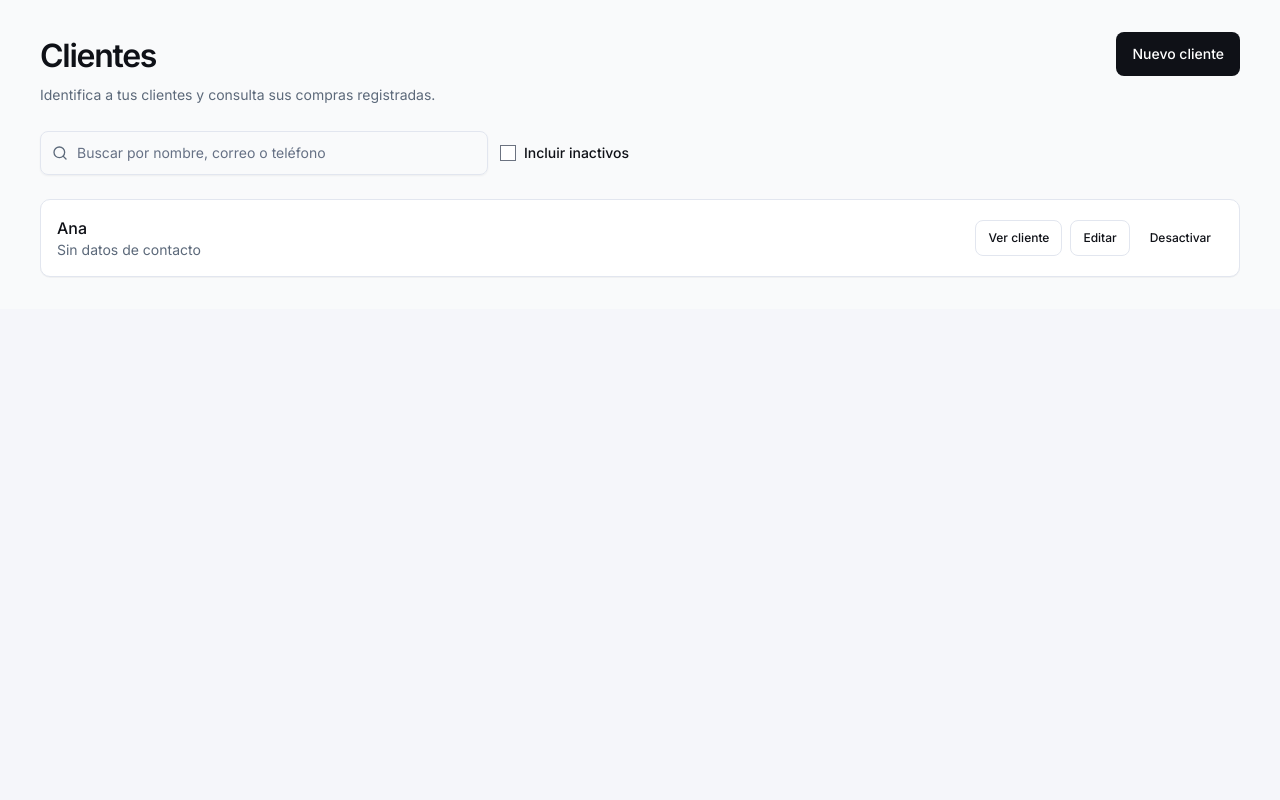
Test: Clientes › muestra compras y devoluciones reales
Click the button "Ver cliente": {"x": 1019, "y": 238} [975,220,1062,256]
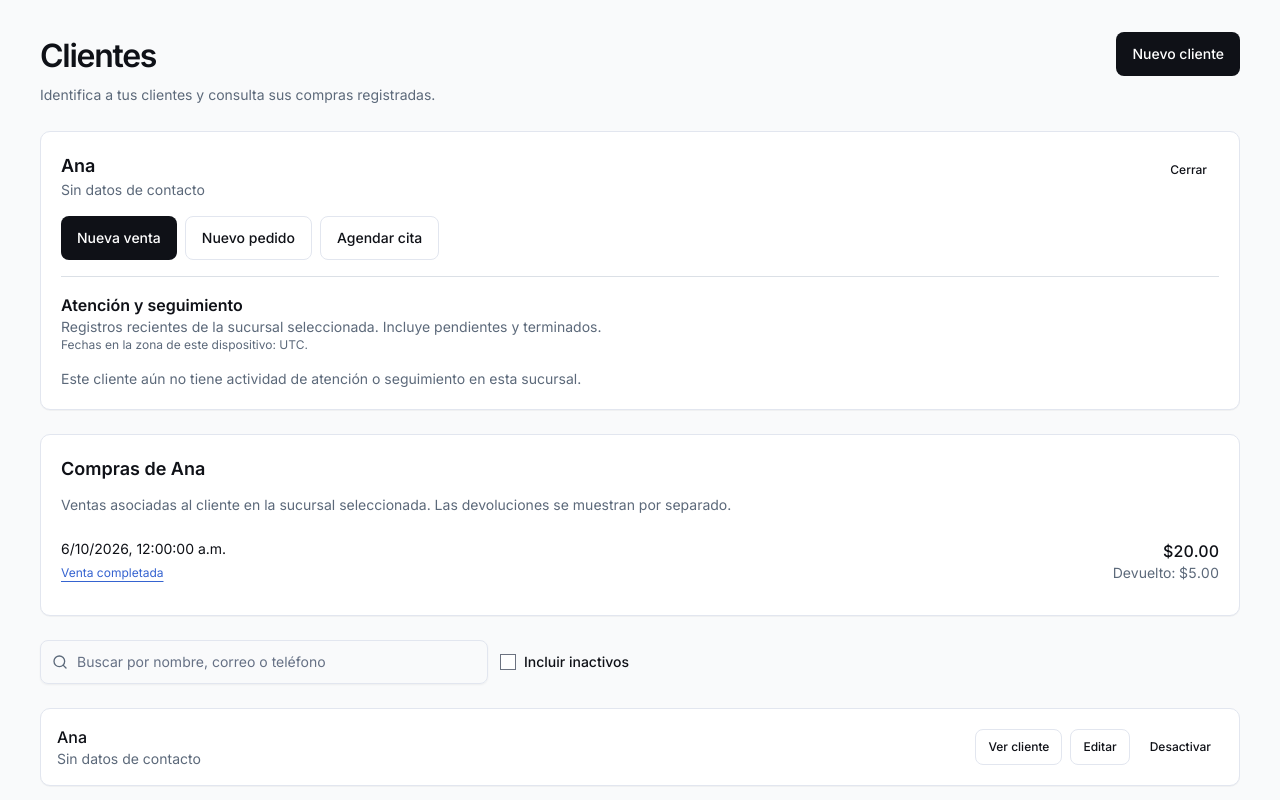
Expected: the link "Venta completada" does not show "sale-123", [61,565,164,580]
Expected: the heading "Compras de Ana" is shown, [61,455,205,483]
Expected: the text "Devuelto: $5.00" is shown, [1113,563,1219,583]
